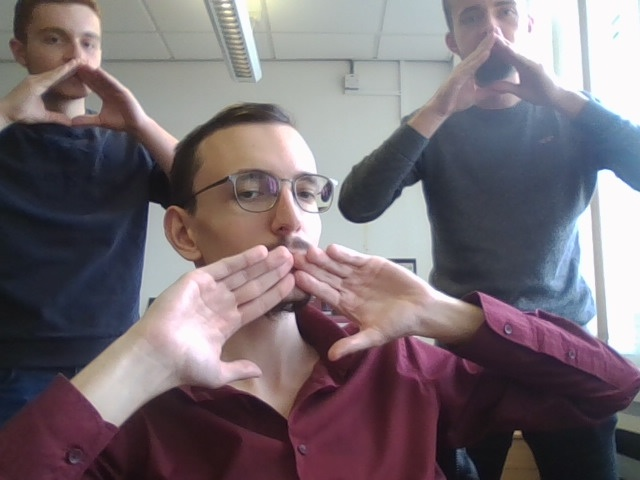thankyou: (148, 245, 423, 389), (429, 27, 559, 115), (3, 60, 138, 139)
